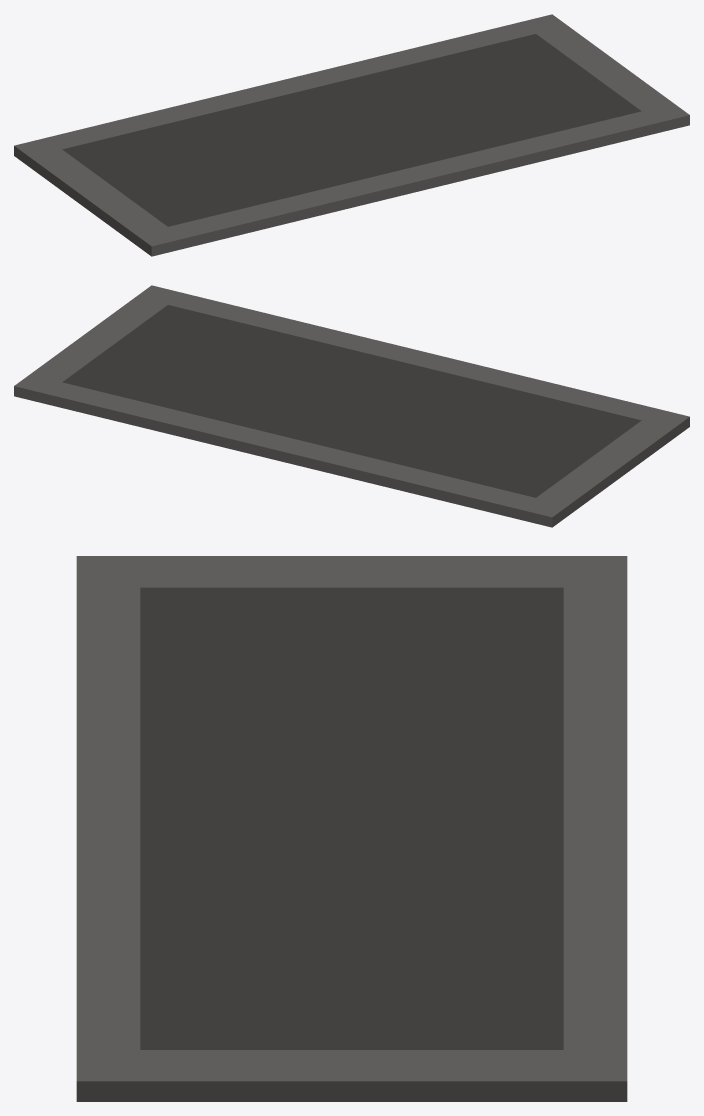
The model's file is Carpet.glb.
The picture shows the model from 3 angles, top to bottom: view 1: azimuth 30°, elevation 25°; view 2: azimuth 150°, elevation 25°; view 3: azimuth 270°, elevation 25°; orthographic projection. The views are drawn at different scales.
Visible parts, largest first — view 1: SI_Prop_Mat_01; view 2: SI_Prop_Mat_01; view 3: SI_Prop_Mat_01.
Boxes of the visible parts, box(x1,y1,x2,y2) form: SI_Prop_Mat_01: box(14, 14, 689, 256); SI_Prop_Mat_01: box(14, 285, 689, 527); SI_Prop_Mat_01: box(76, 556, 627, 1101).
Bounding box in the file's own units: 0.0321 × 0.000584 × 0.0142.
Materials: 1 (1 with a texture image).
